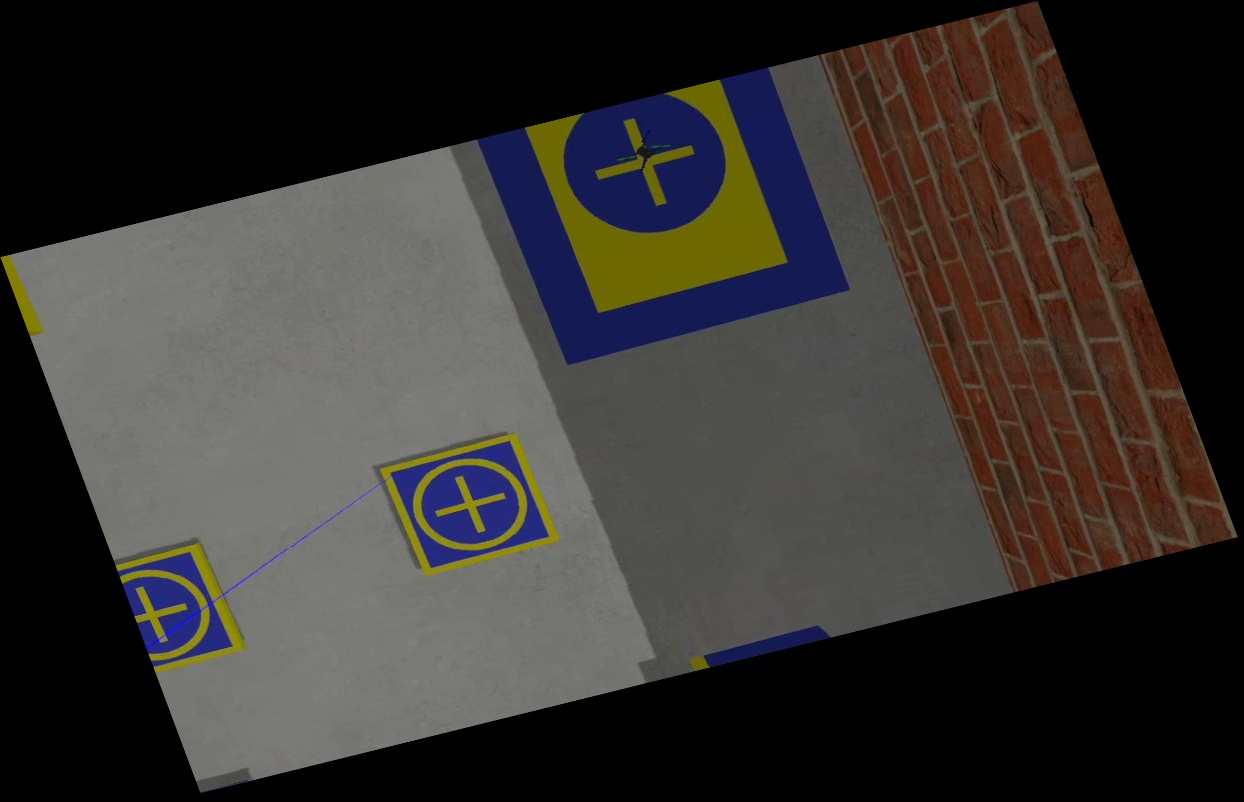large_base: (476, 67, 855, 367)
small_base: (372, 431, 564, 580), (115, 542, 247, 675)
